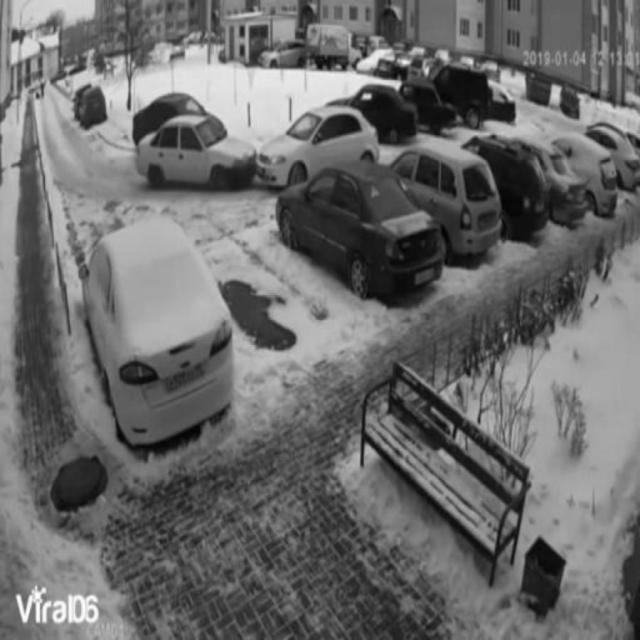accident: (133, 109, 379, 193)
vehicle: (80, 217, 240, 450), (272, 168, 446, 296), (390, 144, 502, 246), (555, 132, 619, 222), (398, 74, 465, 131), (357, 79, 414, 137), (72, 79, 112, 131), (254, 34, 314, 68)
